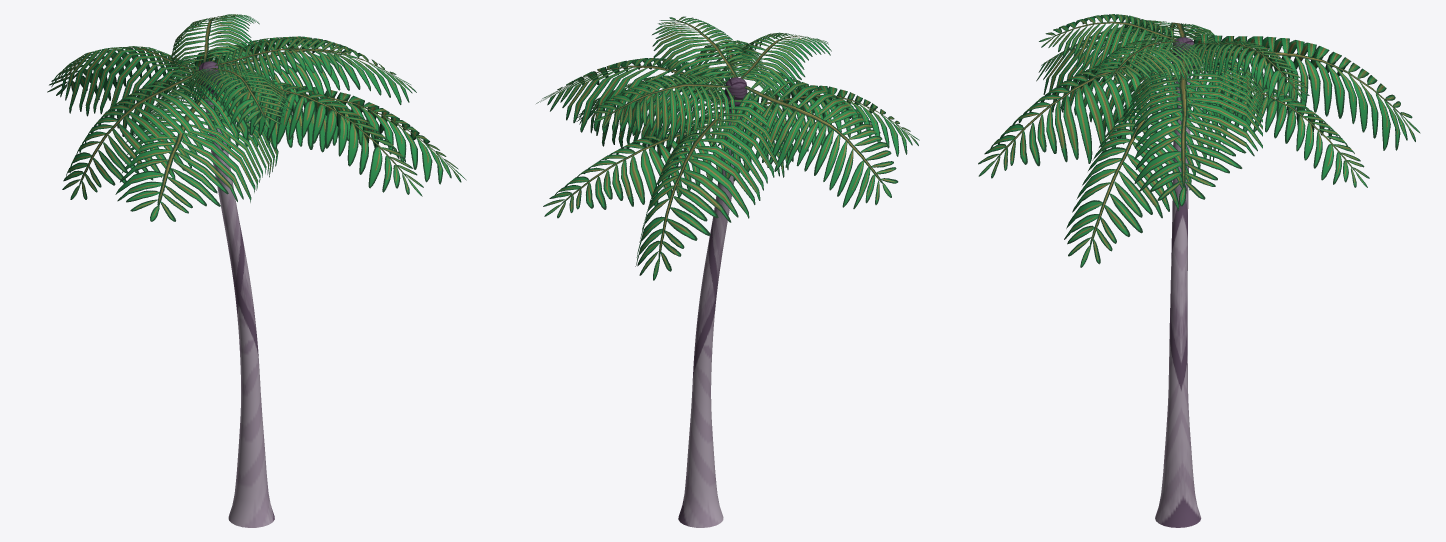
The model's file is ManaPalm_2.obj.
The picture shows the model from 3 angles, left to right: view 1: azimuth 30°, elevation 25°; view 2: azimuth 150°, elevation 25°; view 3: azimuth 270°, elevation 25°; orthographic projection. The views are drawn at different scales.
Visible parts, largest first — view 1: pPlane2; view 2: pPlane2; view 3: pPlane2.
Part boxes in pixels (bbox=[...]): pPlane2: bbox=[47, 14, 466, 527]; pPlane2: bbox=[536, 16, 919, 527]; pPlane2: bbox=[978, 14, 1420, 527].
Size of the model in its own units: 10.79 by 13.05 by 11.66.
3 materials, 3 textured.
